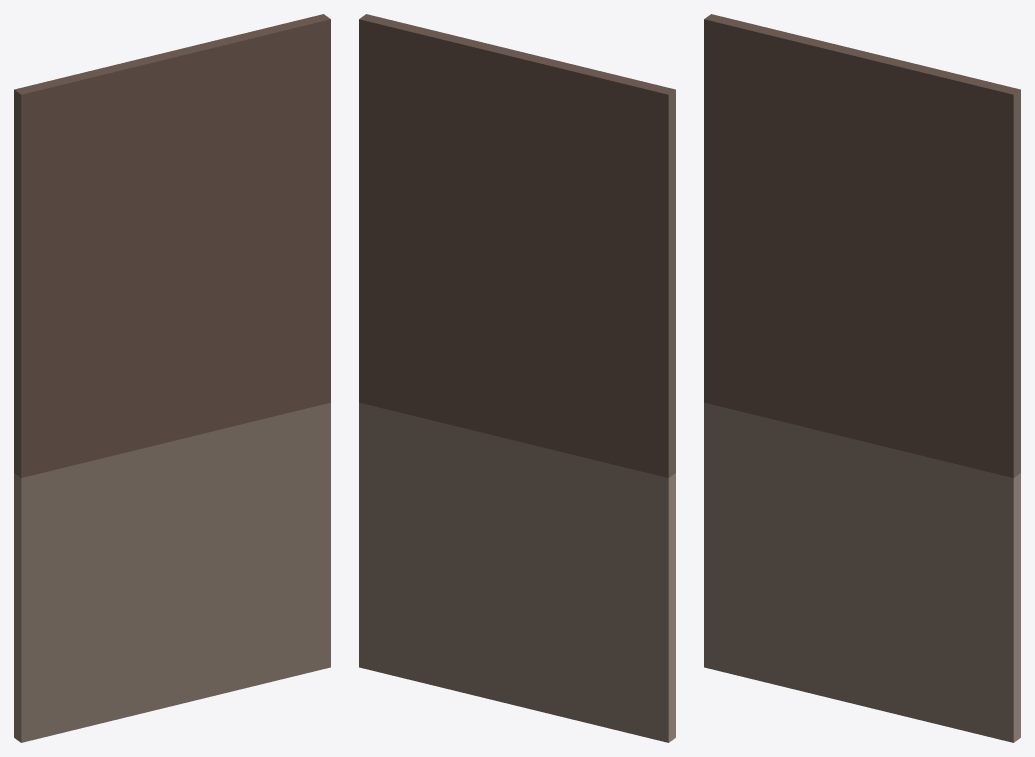
Rendered from pared_interior_habitaciones.fbx.
3 renders of one model, left to right at view 1: azimuth 30°, elevation 25°; view 2: azimuth 150°, elevation 25°; view 3: azimuth 330°, elevation 25°, orthographic.
Visible parts, largest first — view 1: pared_interior_habitaciones; view 2: pared_interior_habitaciones; view 3: pared_interior_habitaciones.
Part boxes in pixels (x1,y1,x2,y2): pared_interior_habitaciones: (14,14,330,742); pared_interior_habitaciones: (359,14,675,742); pared_interior_habitaciones: (704,14,1020,742).
Size of the model in its own units: 100 by 200 by 4.01.
